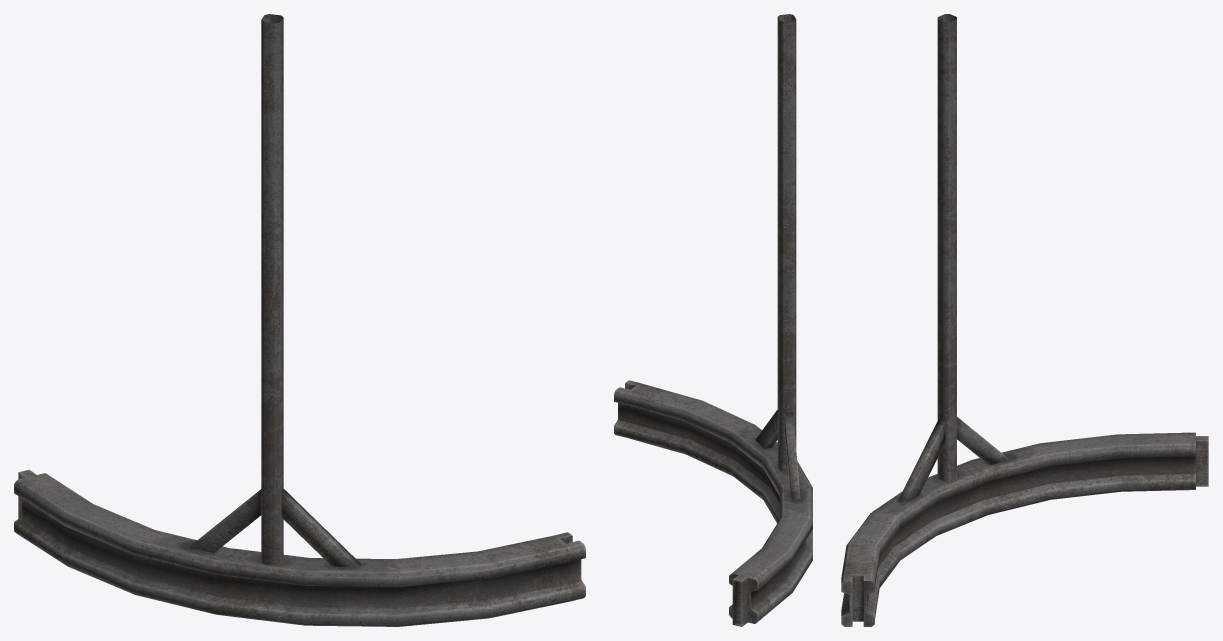
File: ceiling_rail_track_turn_right.dae
The picture shows the model from 3 angles, left to right: view 1: azimuth 30°, elevation 25°; view 2: azimuth 150°, elevation 25°; view 3: azimuth 270°, elevation 25°; orthographic projection. The views are drawn at different scales.
Visible parts, largest first — view 1: turn_right; view 2: turn_right; view 3: turn_right.
Boxes of the visible parts, x1=… form: turn_right: x1=14, y1=14, x2=585, y2=626; turn_right: x1=614, y1=14, x2=812, y2=626; turn_right: x1=841, y1=14, x2=1208, y2=626.
Size of the model in its own units: 1.31 by 2.06 by 1.36.
